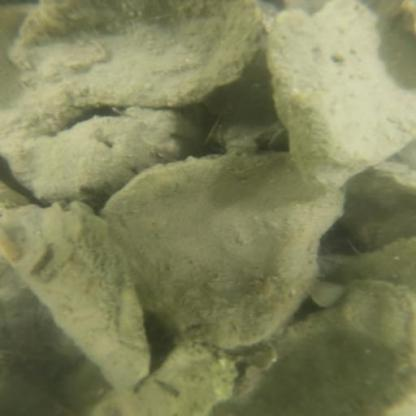Oyster-Closed: (101, 150, 348, 349), (203, 279, 416, 415)
Oyster-Open: (0, 204, 151, 393), (273, 1, 413, 193), (339, 161, 416, 250)
